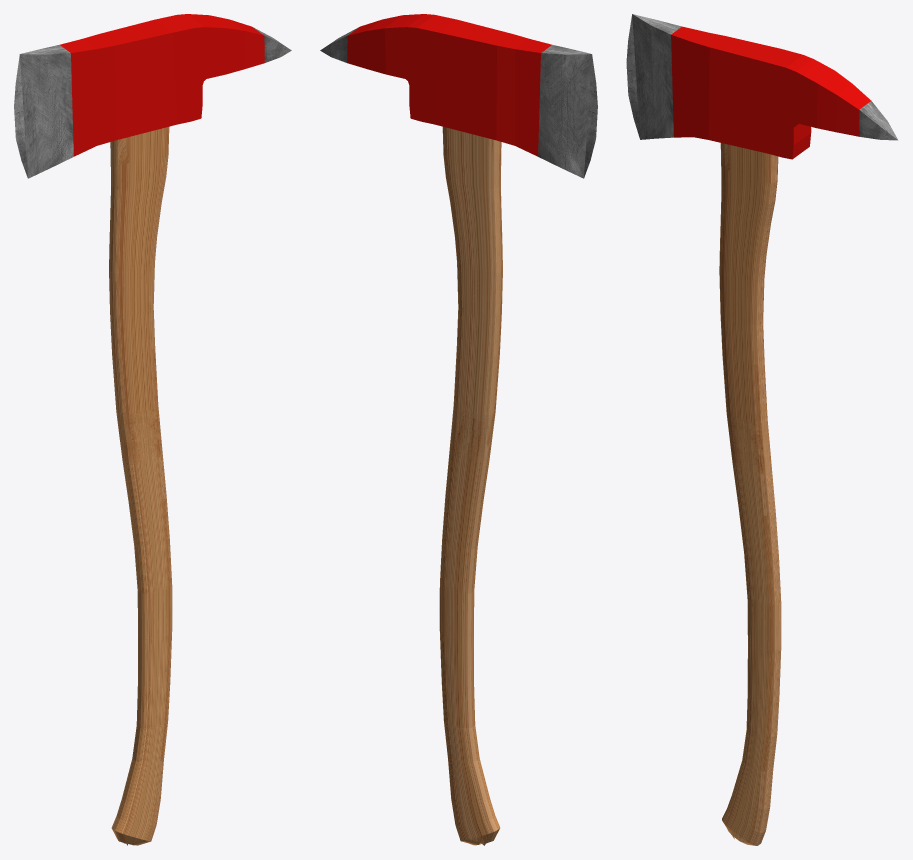
Rendered from Fire_Axe 2.fbx.
The picture shows the model from 3 angles, left to right: view 1: azimuth 30°, elevation 25°; view 2: azimuth 150°, elevation 25°; view 3: azimuth 330°, elevation 25°; orthographic projection. The views are drawn at different scales.
Parts seen in each view (by area): view 1: Cube.001; view 2: Cube.001; view 3: Cube.001.
Part boxes in pixels (x1,y1,x2,y2): Cube.001: (14, 14, 291, 845); Cube.001: (320, 14, 597, 845); Cube.001: (626, 14, 898, 845).
Size of the model in its own units: 145 by 409 by 16.19.
